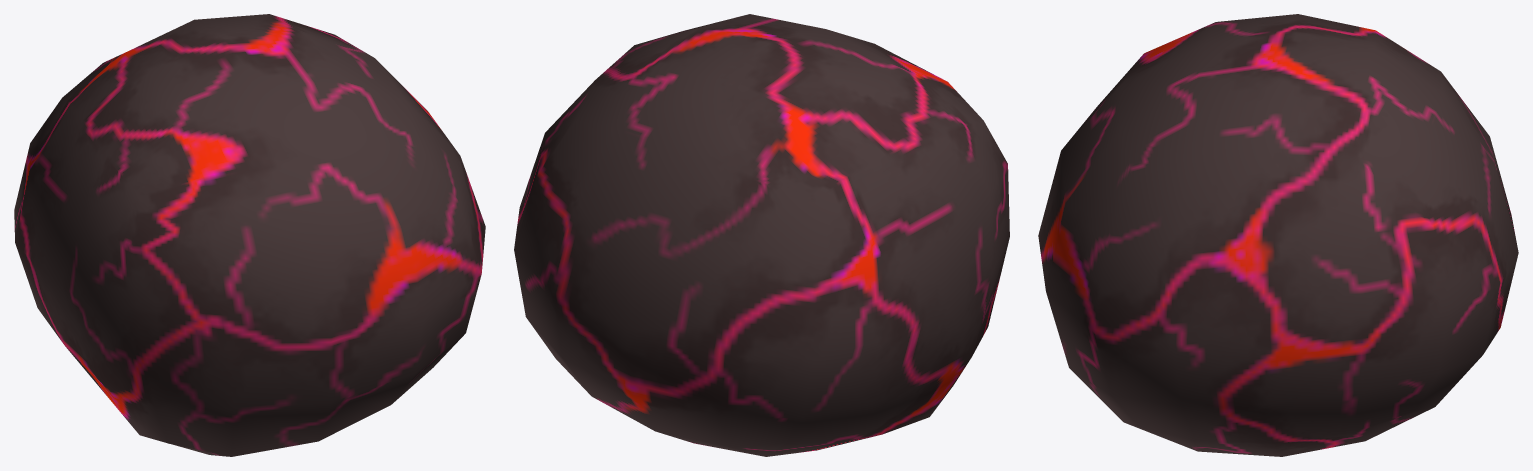
Rendered from VFX_Bomb-Rock.gltf.
The picture shows the model from 3 angles, left to right: view 1: azimuth 30°, elevation 25°; view 2: azimuth 150°, elevation 25°; view 3: azimuth 270°, elevation 25°; orthographic projection. The views are drawn at different scales.
Parts seen in each view (by area): view 1: VFX_Bomb_Rock; view 2: VFX_Bomb_Rock; view 3: VFX_Bomb_Rock.
Part boxes in pixels (bbox=[...]): VFX_Bomb_Rock: bbox=[14, 14, 485, 456]; VFX_Bomb_Rock: bbox=[514, 14, 1009, 456]; VFX_Bomb_Rock: bbox=[1038, 14, 1518, 456].
Size of the model in its own units: 1.14 by 1.06 by 1.16.
Materials: 1 (1 with a texture image).
